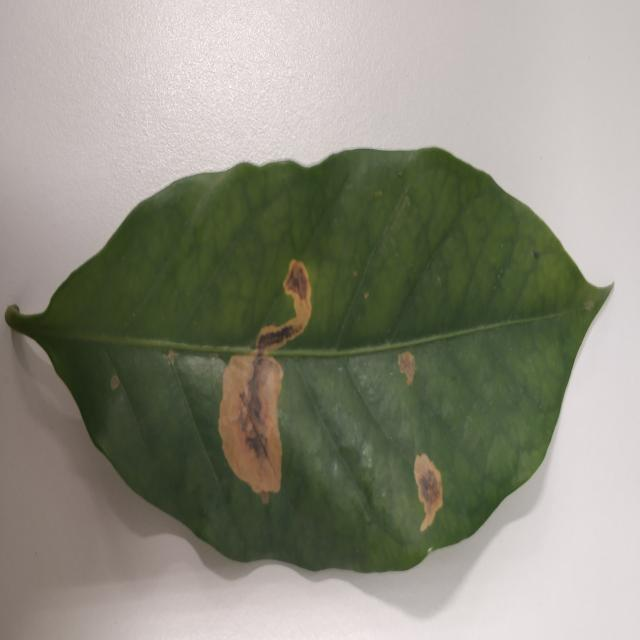Plaga-Minador: (6, 148, 614, 577)
